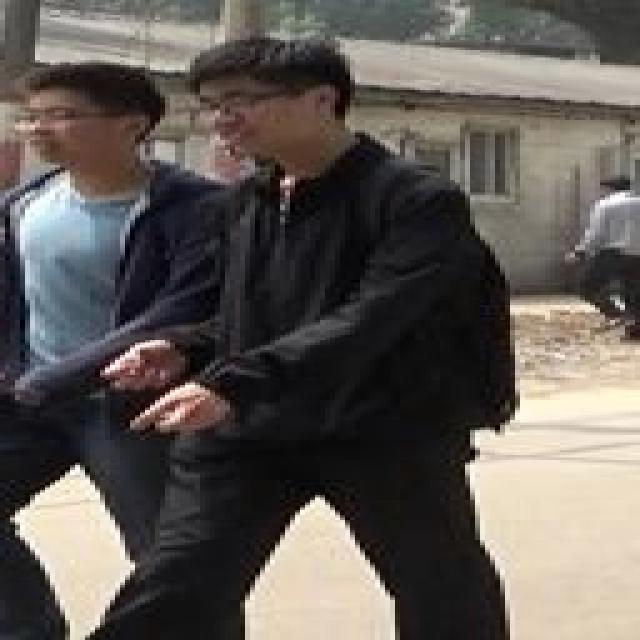adult: (135, 32, 545, 640), (0, 60, 190, 638), (570, 173, 640, 335)
